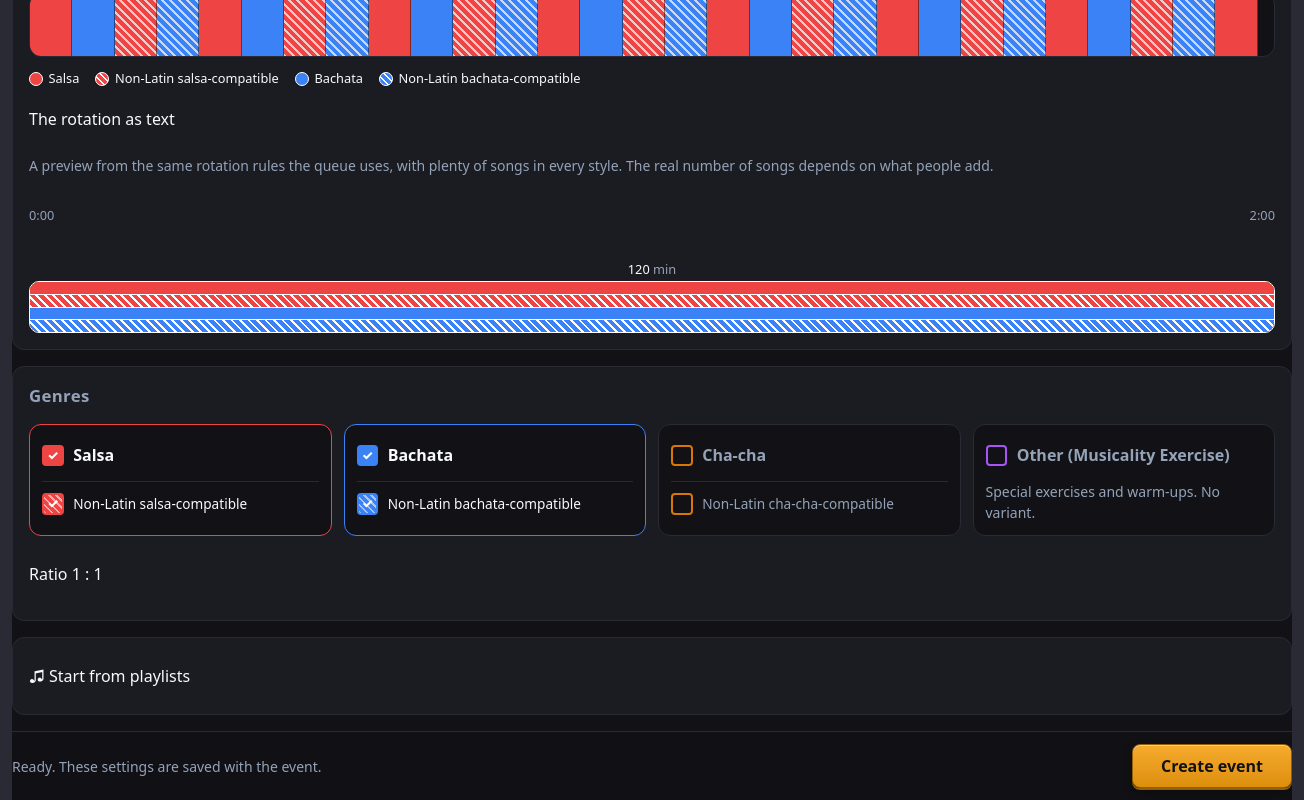
Test: CreateEvent › planner parameters and preview › shows the ratio, an approximate song count, and a legend that follows the genres
(page scrolled)
Check: the number of list items is 4, box [29,69,79,89]; [95,69,279,89]; [295,69,363,89]; [379,69,580,89]
Click the checkbox labelled "Cha-cha": coordinates (734, 455) [671,433,948,477]
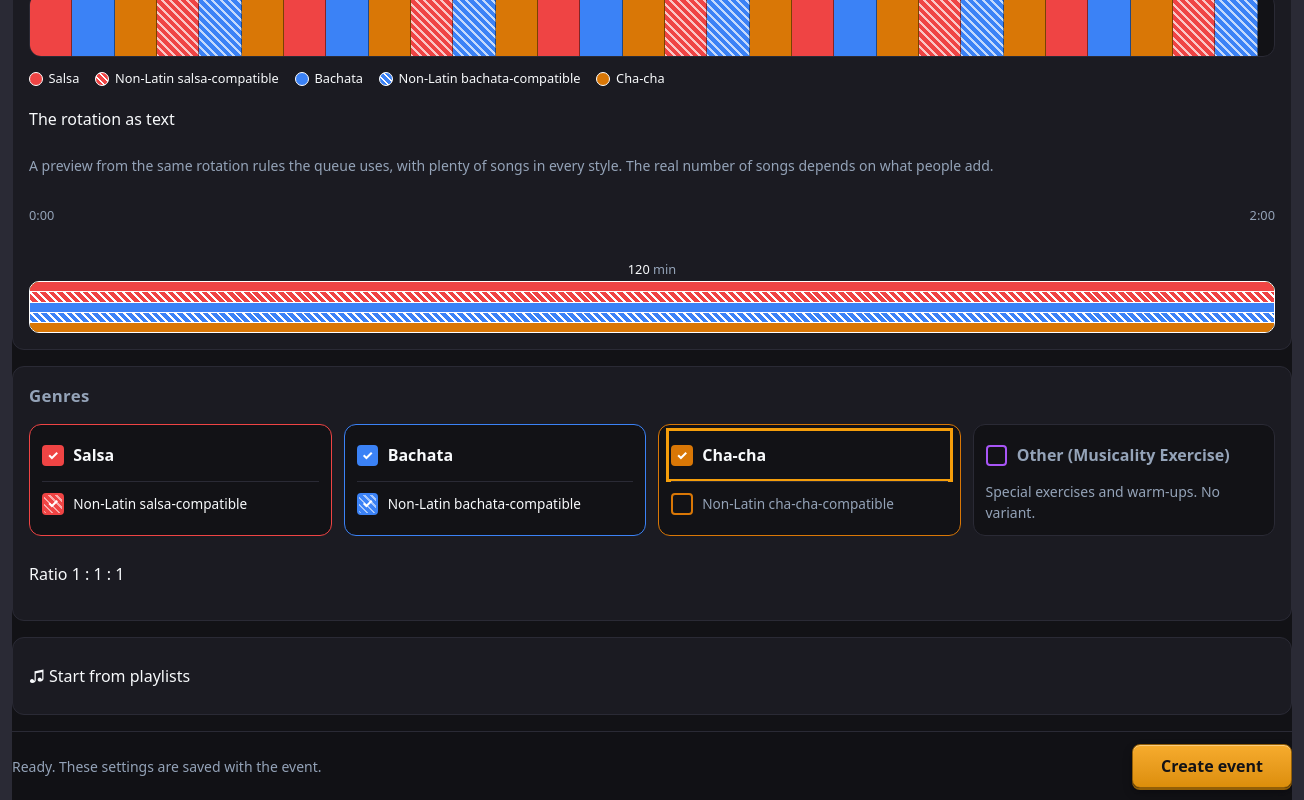
Check: the list item "Cha-cha" is shown, box [596,69,665,89]
The same sequence is also written out, for anyone who cannot tell the colours apart.
Click the heading "The rotation as text": coordinates (102, 118) [29,108,175,130]
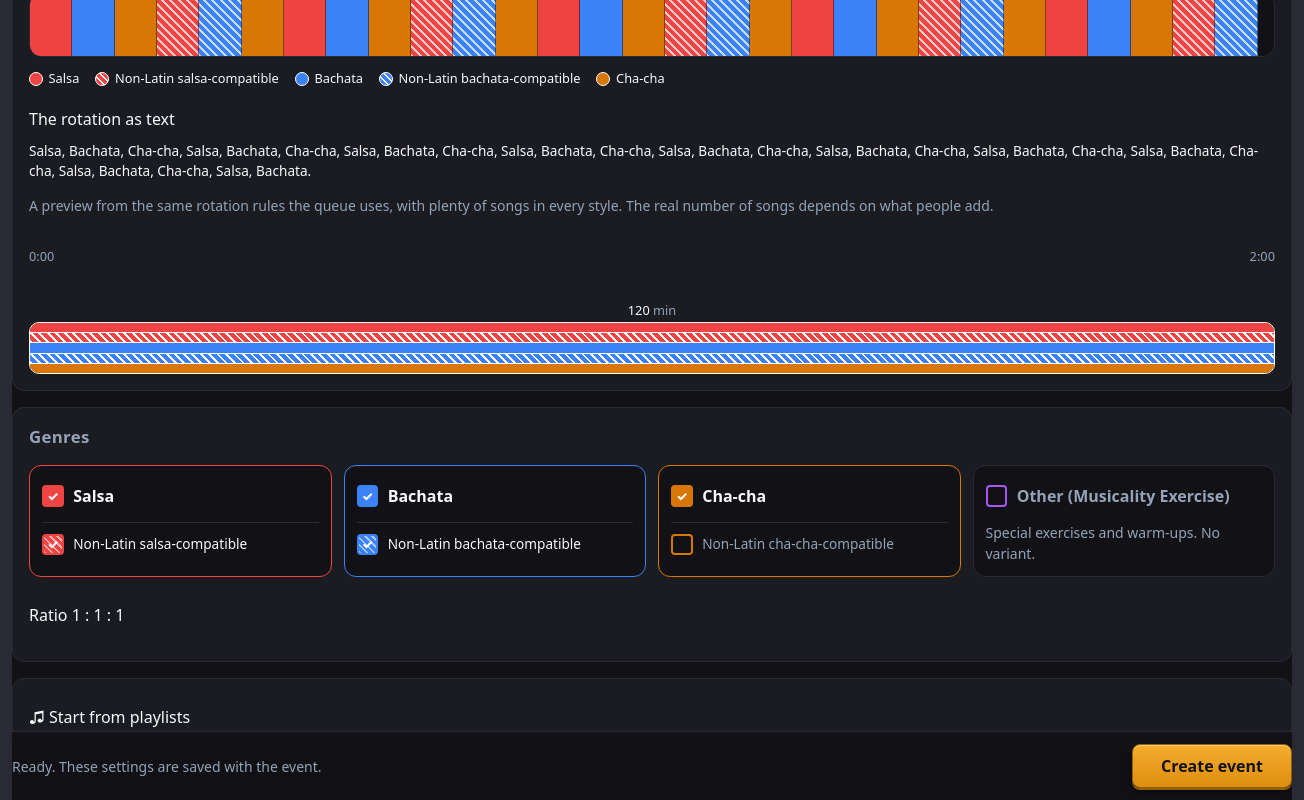
Check: the text "Salsa, Bachata, Cha-cha, Salsa" is shown, box [29,140,1258,180]
